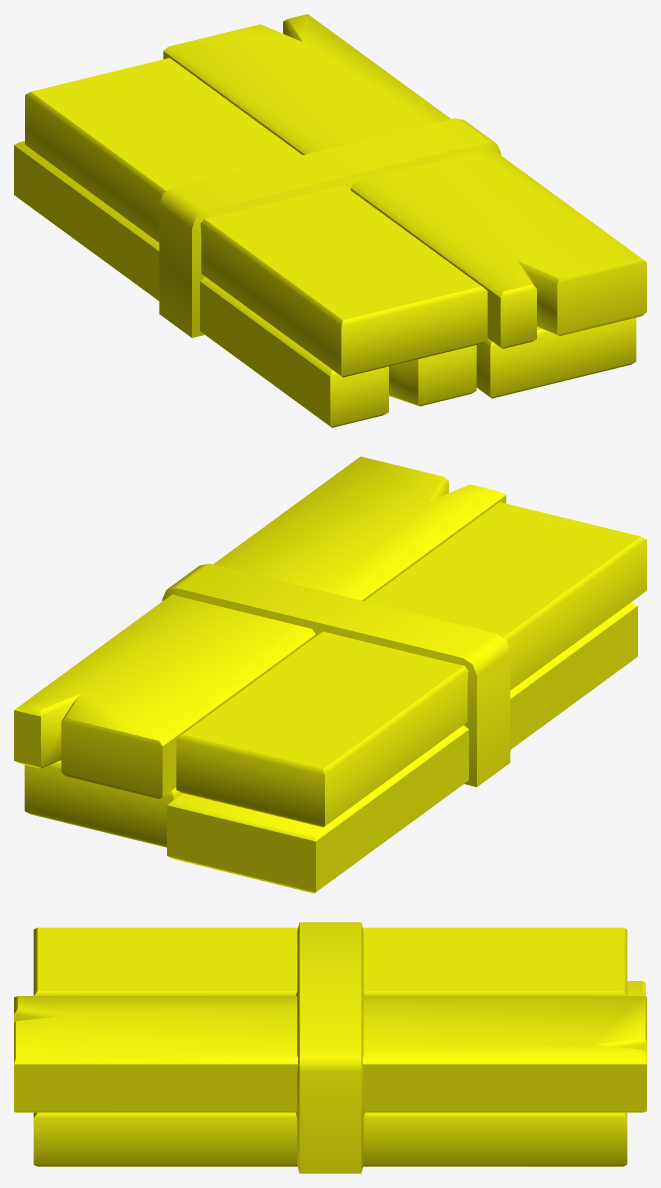
The model's file is kaykit-wood-planks-stack-small.glb.
3 renders of one model, top to bottom at view 1: azimuth 30°, elevation 25°; view 2: azimuth 150°, elevation 25°; view 3: azimuth 270°, elevation 25°, orthographic. The views are drawn at different scales.
Visible parts, largest first — view 1: Wood_Planks_Stack_Small; view 2: Wood_Planks_Stack_Small; view 3: Wood_Planks_Stack_Small.
Boxes of the visible parts, x1,y1,x2,y2 form: Wood_Planks_Stack_Small: (14,14,646,427); Wood_Planks_Stack_Small: (14,456,646,893); Wood_Planks_Stack_Small: (14,922,646,1173).
Bounding box in the file's own units: 0.8462 × 0.3233 × 1.6.
